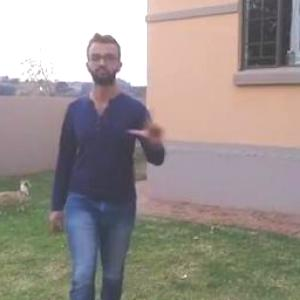land_hand: (124, 92, 176, 148)
